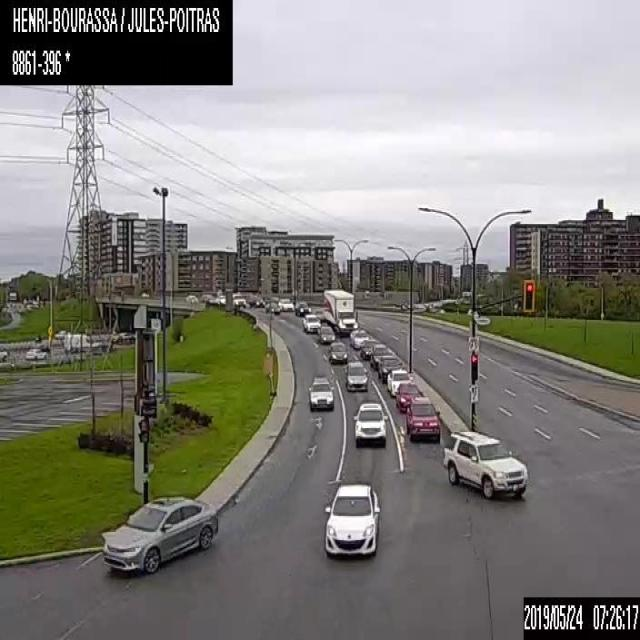vehicle: (98, 492, 217, 575), (439, 428, 526, 500), (324, 481, 380, 556), (352, 400, 388, 448), (322, 287, 358, 334), (405, 396, 439, 442), (307, 376, 335, 411), (394, 381, 423, 412), (343, 361, 368, 392), (386, 369, 412, 396), (376, 355, 402, 382), (64, 330, 92, 350), (370, 344, 392, 369), (328, 341, 348, 363), (358, 339, 379, 359), (349, 328, 369, 348), (302, 313, 320, 332), (26, 347, 48, 360), (318, 325, 334, 342), (294, 301, 310, 316), (277, 297, 294, 310), (232, 292, 245, 306), (265, 301, 279, 313), (250, 296, 264, 306), (185, 294, 197, 302)
